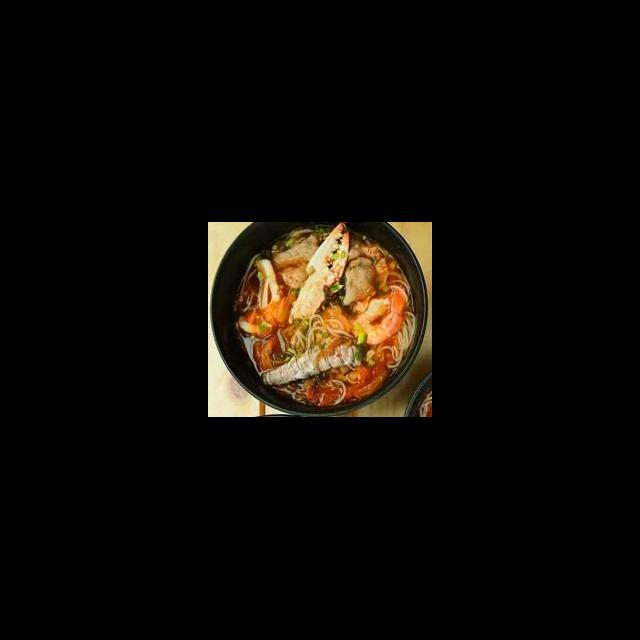bun: (288, 314, 356, 356), (375, 308, 418, 372), (382, 270, 414, 306)
bun hai san: (219, 236, 432, 418)
tom: (349, 282, 408, 346)
tom tit: (259, 338, 365, 389)
